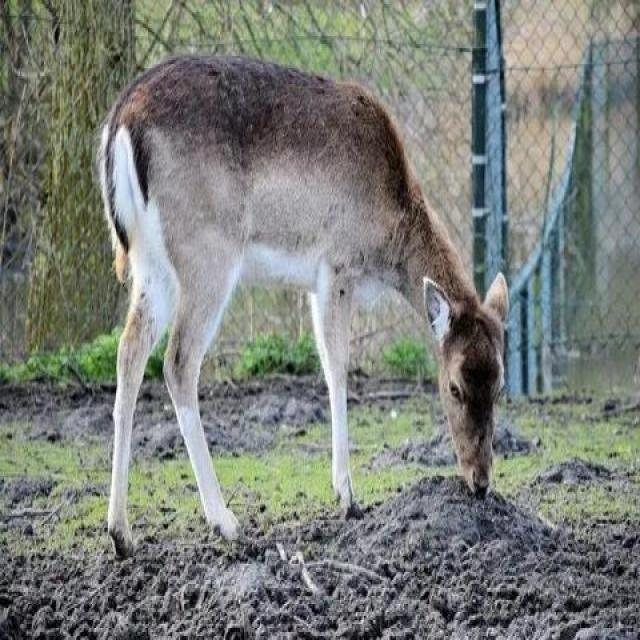deer: (58, 63, 578, 628)
